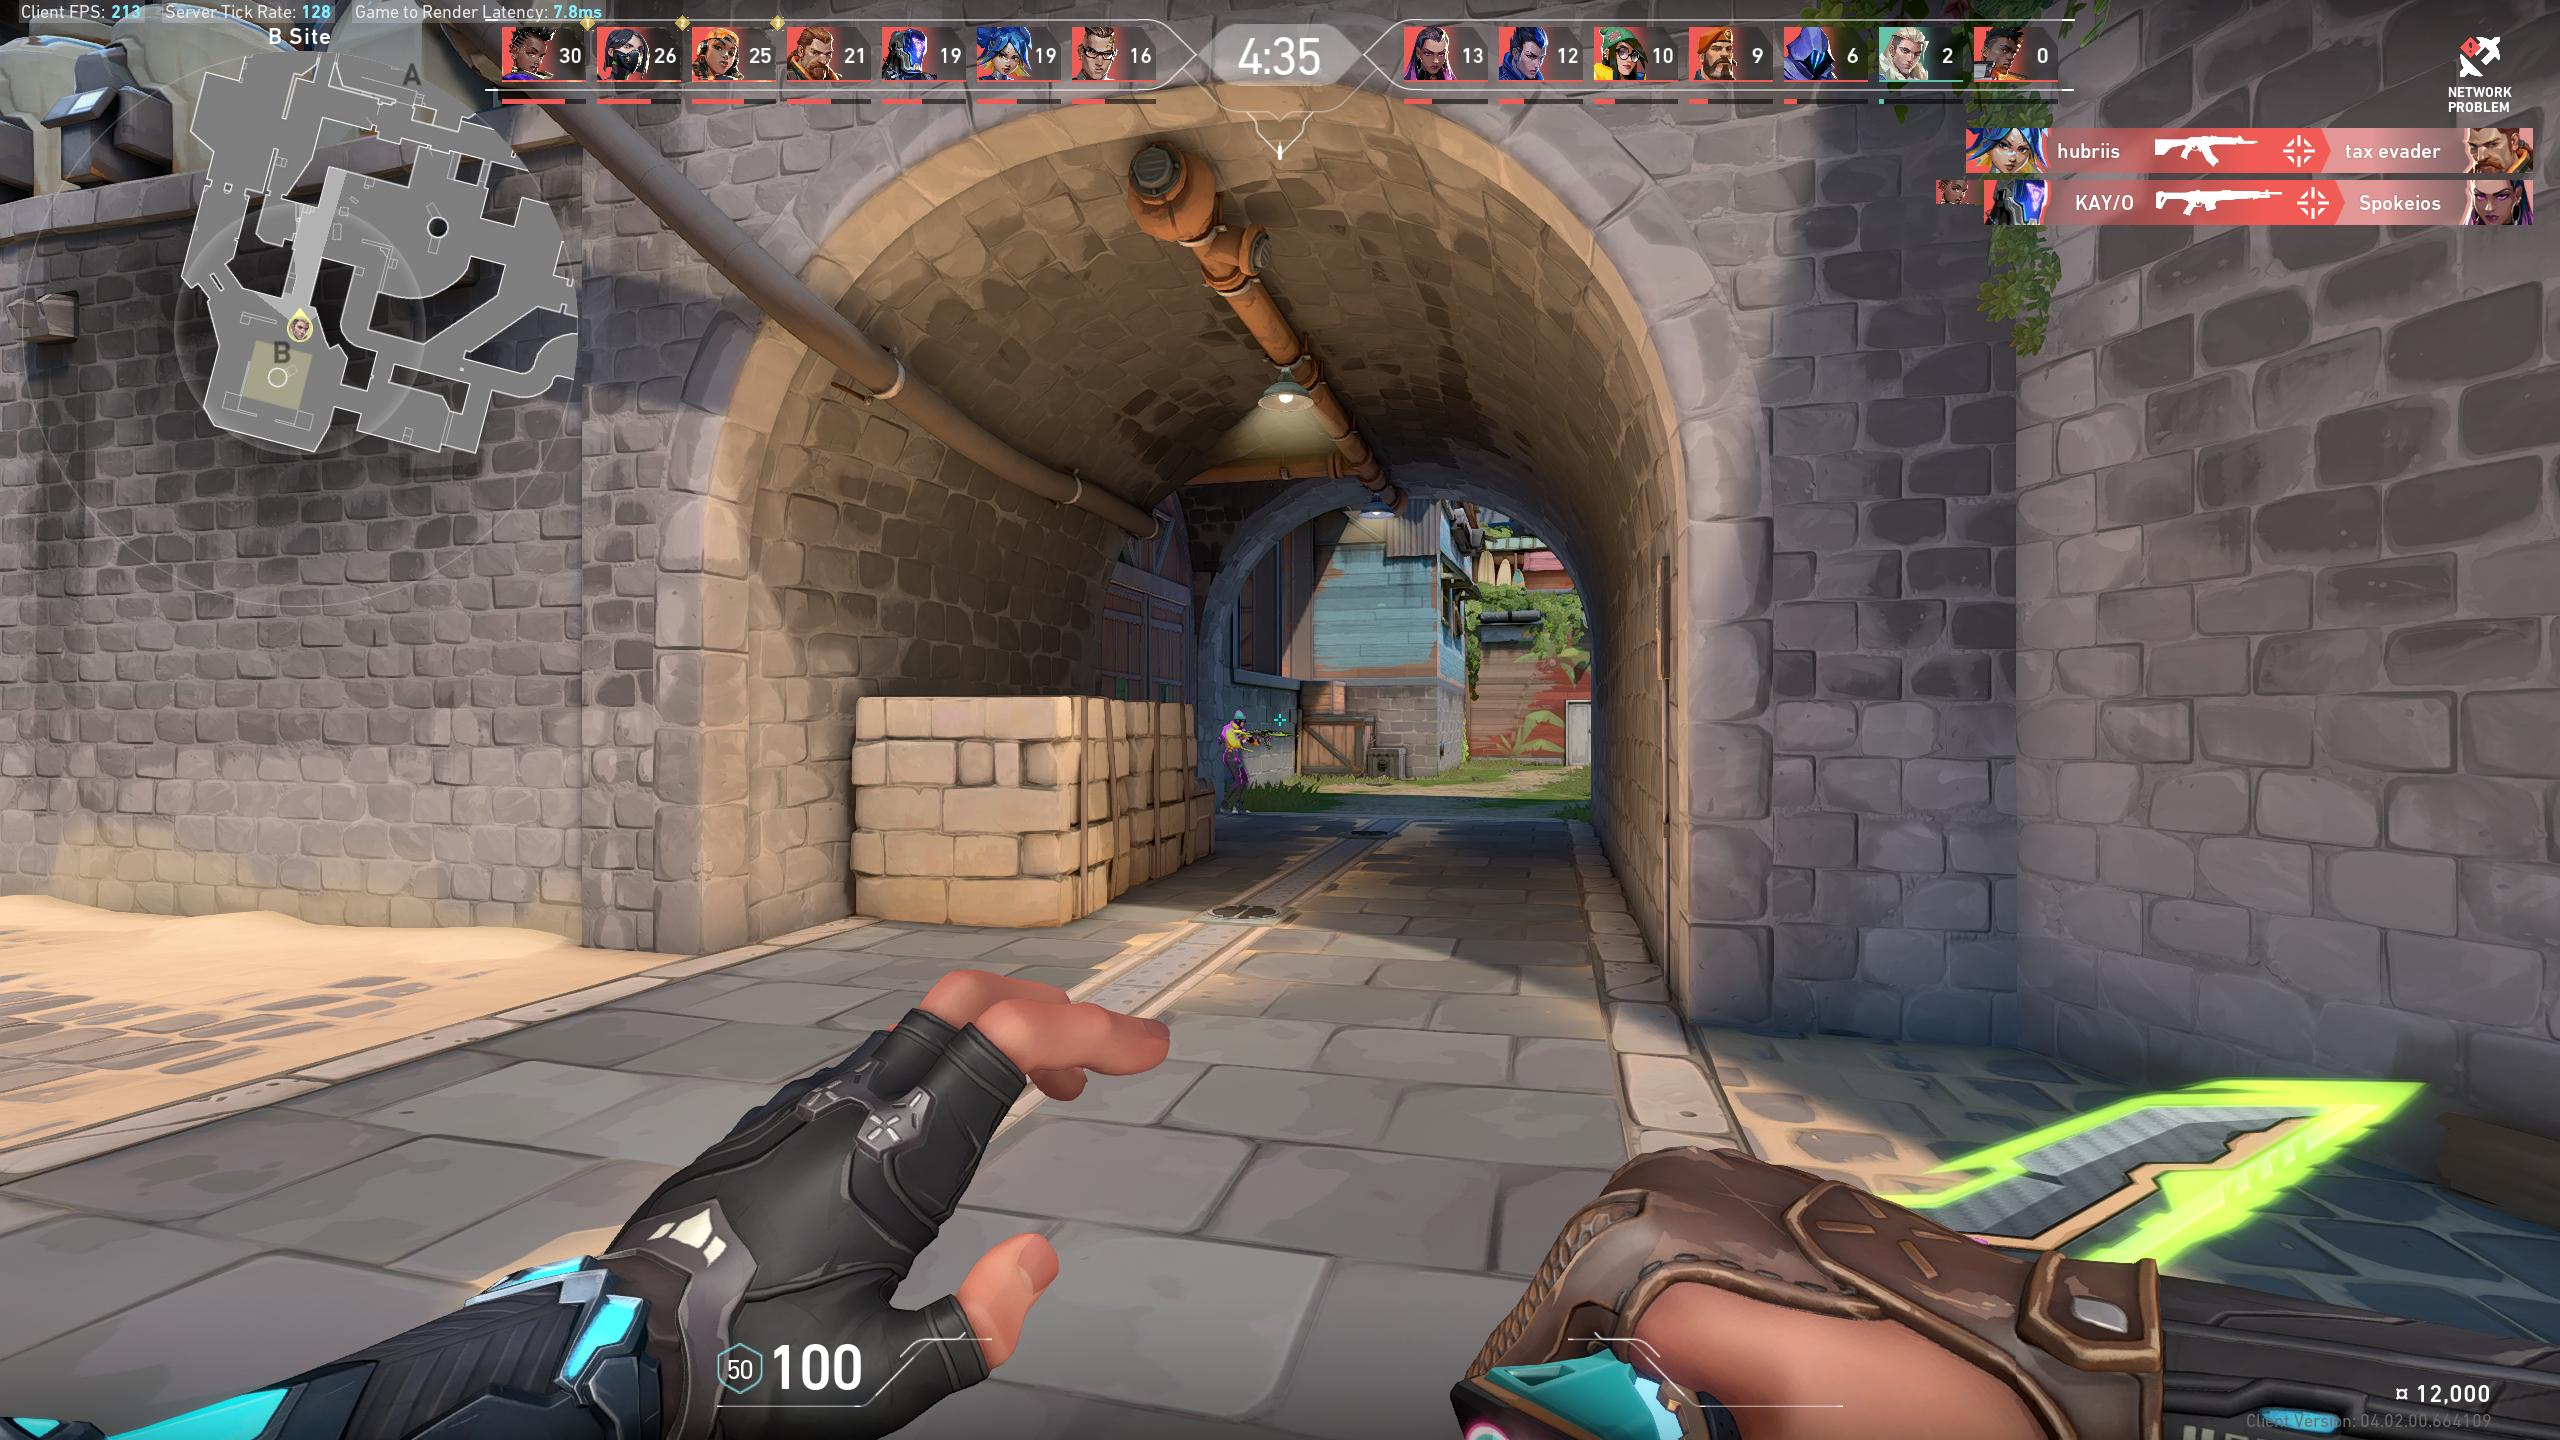enemyBody: (1225, 726, 1240, 753)
enemyHead: (1234, 717, 1245, 726)
